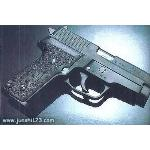Pistol: (1, 25, 150, 110)
